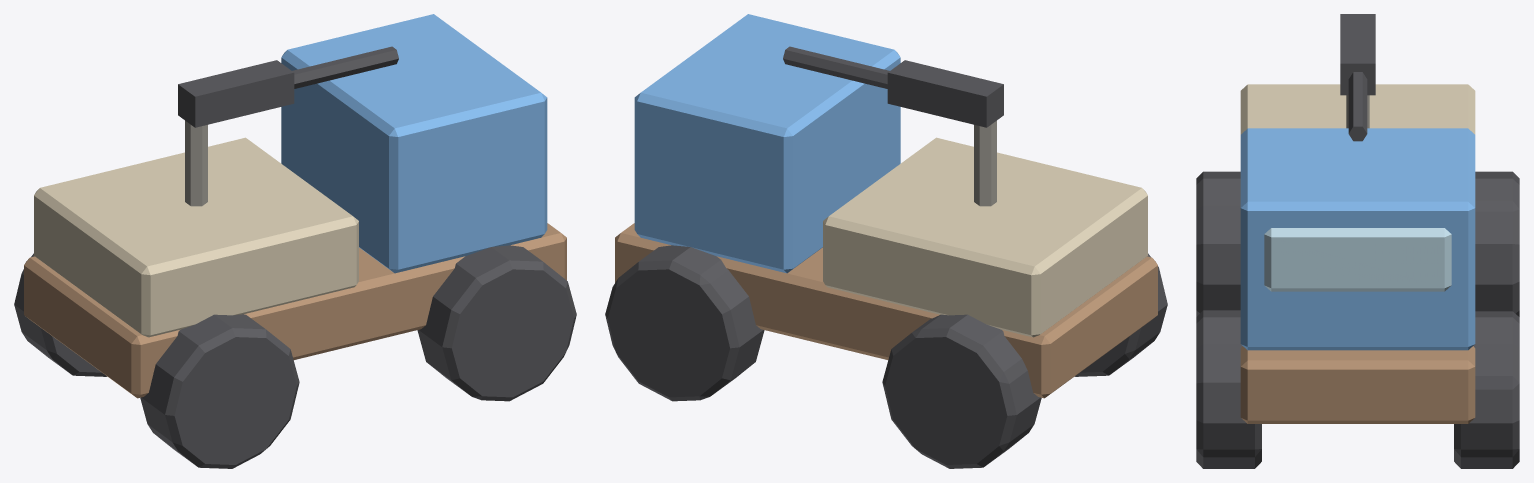
The model's file is technical.glb.
3 views of the same model, side by side, from view 1: azimuth 30°, elevation 25°; view 2: azimuth 150°, elevation 25°; view 3: azimuth 270°, elevation 25° (orthographic). The views are drawn at different scales.
Visible parts, largest first — view 1: Hull, Turret; view 2: Hull, Turret; view 3: Hull, Turret.
Boxes of the visible parts, <box> form: Hull: <box>14,14,576,468</box>; Turret: <box>178,46,398,206</box>; Hull: <box>605,14,1167,468</box>; Turret: <box>783,46,1003,206</box>; Hull: <box>1196,84,1519,468</box>; Turret: <box>1340,14,1375,141</box>.
Bounding box in the file's own units: 2.2 × 1.53 × 1.38.
